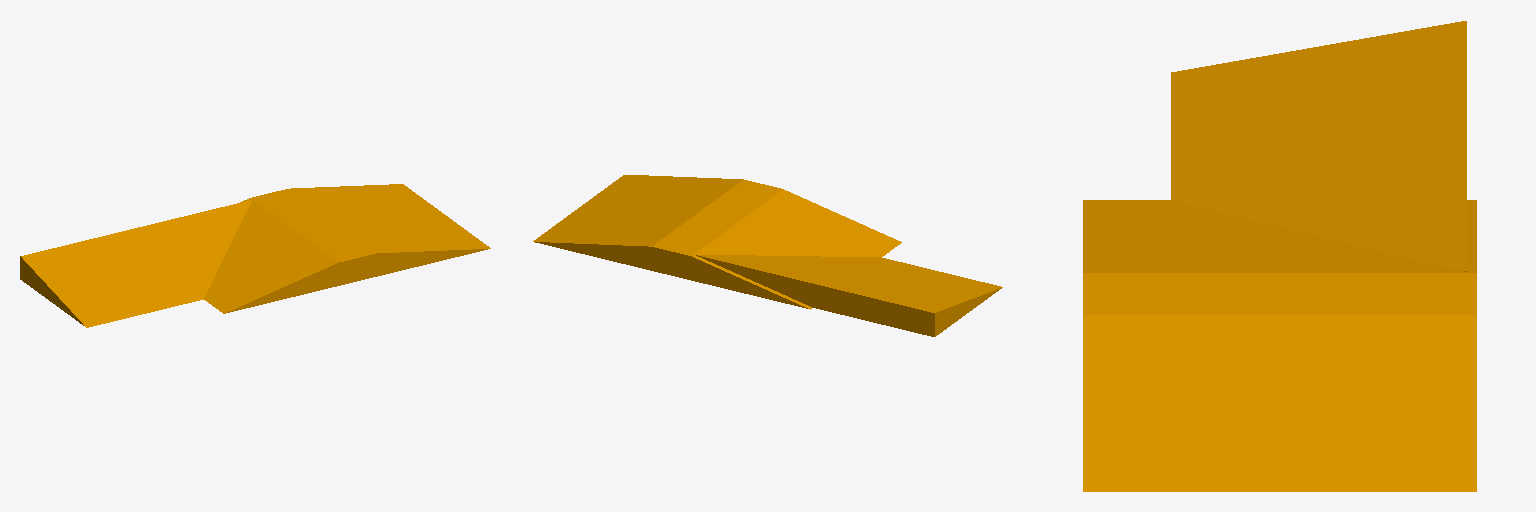
URDF robot description (block1_11_11):
<?xml version="1.0" ?>
<robot name="block1_11_11">
  <link name="block1_11_11__link_0">
    <inertial>
      <mass value="1"/>
      <origin rpy="0      0      3.14159" xyz="0 0 0"/>
      <inertia ixx="0.166667" ixy="0" ixz="0" iyy="0.166667" iyz="0" izz="0.166667"/>
    </inertial>
    <collision name="block1_11_11__collision">
      <origin rpy="0      0      3.14159" xyz="0 0 0"/>
      <geometry>
        <mesh filename="package://block1_11_11/block1_11_11.stl" scale="1 1 1"/>
      </geometry>
    </collision>
    <visual name="block1_11_11__visual">
      <origin rpy="0      0      3.14159" xyz="0 0 0"/>
      <geometry>
        <mesh filename="package://block1_11_11/block1_11_11.stl" scale="1 1 1"/>
      </geometry>
    </visual>
  </link>
</robot>

--- Render facts (derived) ---
The picture shows the robot from 3 angles, left to right: view 1: azimuth 30°, elevation 25°; view 2: azimuth 150°, elevation 25°; view 3: azimuth 270°, elevation 25°; orthographic projection.
Model block1_11_11 with 1 links and 0 joints (none), rooted at block1_11_11__link_0, posed every joint at zero.
Visible links, largest first — view 1: block1_11_11__link_0; view 2: block1_11_11__link_0; view 3: block1_11_11__link_0.
Link boxes in pixels (box(x1,y1,x2,y2)): block1_11_11__link_0: box(20, 184, 490, 327); block1_11_11__link_0: box(533, 175, 1002, 336); block1_11_11__link_0: box(1083, 21, 1476, 491).
Bounding box of the posed robot: 5.03 × 2 × 0.291 m (x, y, z).
1 mesh visuals loaded from 1 distinct referenced files (1 binary STL).